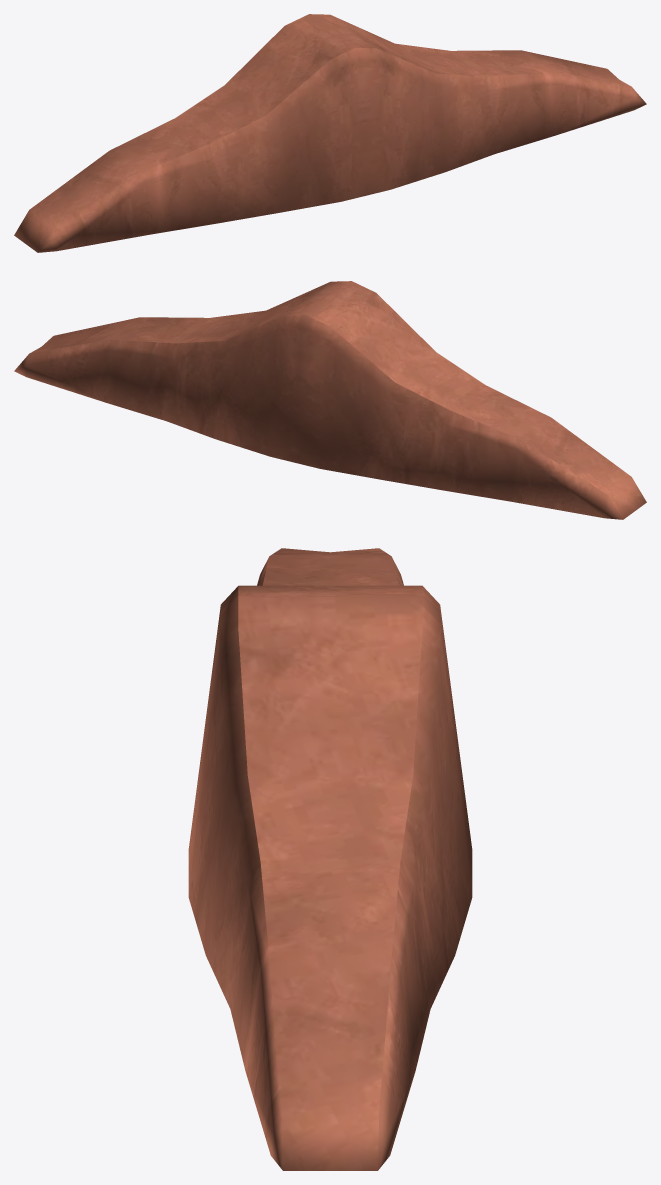
The model's file is mountain05.glb.
3 renders of one model, top to bottom at view 1: azimuth 30°, elevation 25°; view 2: azimuth 150°, elevation 25°; view 3: azimuth 270°, elevation 25°, orthographic. The views are drawn at different scales.
Visible parts, largest first — view 1: Mountain05; view 2: Mountain05; view 3: Mountain05.
Boxes of the visible parts, left/top/right/bottom form: Mountain05: left=14, top=14, right=646, bottom=252; Mountain05: left=14, top=281, right=646, bottom=519; Mountain05: left=188, top=548, right=472, bottom=1170.
Bounding box in the file's own units: 22.93 × 4.98 × 4.62.
Materials: 1 (1 with a texture image).
